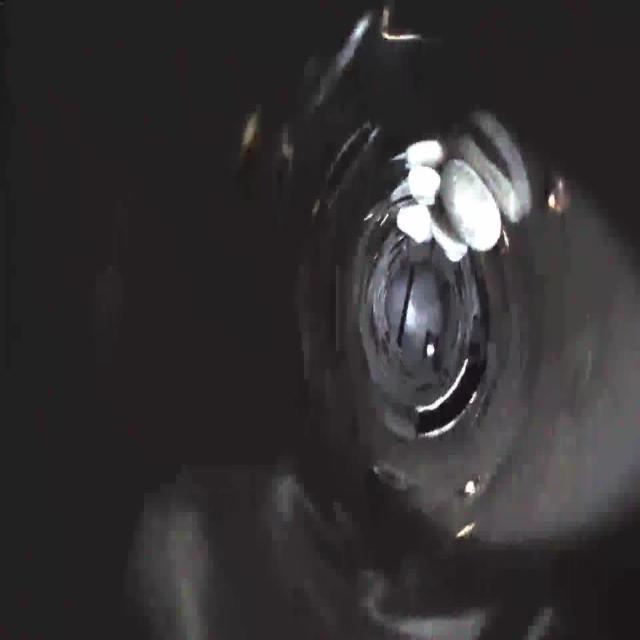hole: (411, 358, 489, 447)
